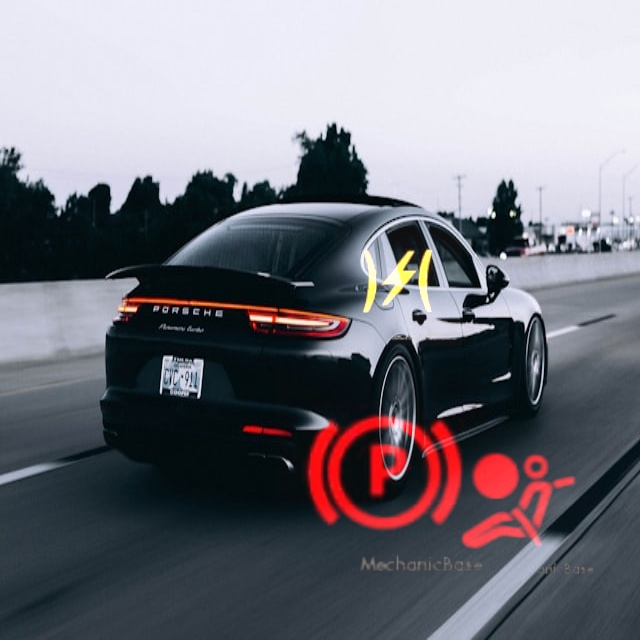symbol: (276, 367, 491, 582), (440, 422, 600, 582), (334, 218, 462, 346)
